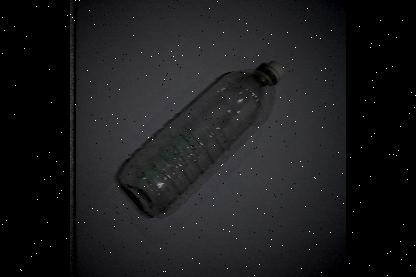Plastic Bottle: (118, 60, 285, 218)
